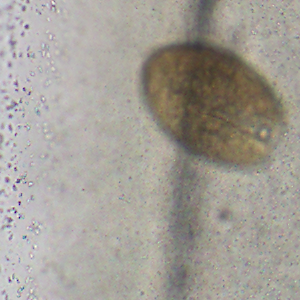Fasciola_hepatica_egg: (140, 42, 287, 165)
